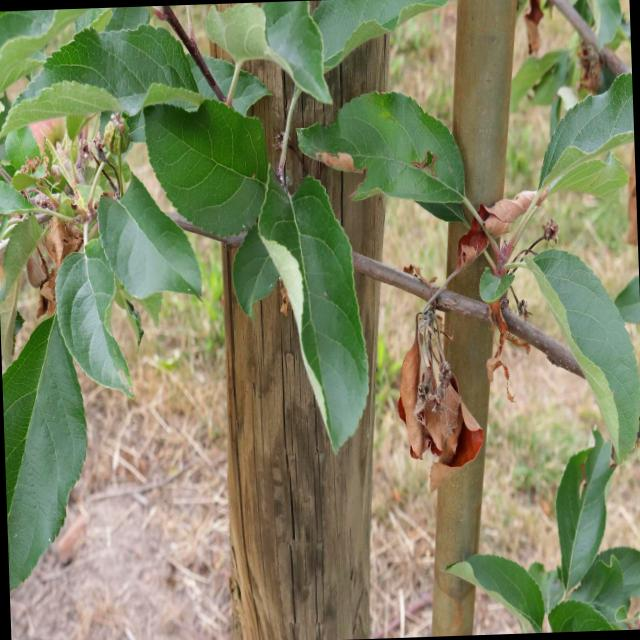-FireBlight-: (403, 304, 484, 478), (448, 191, 540, 263), (482, 292, 524, 398), (26, 206, 96, 264), (20, 256, 63, 310)
